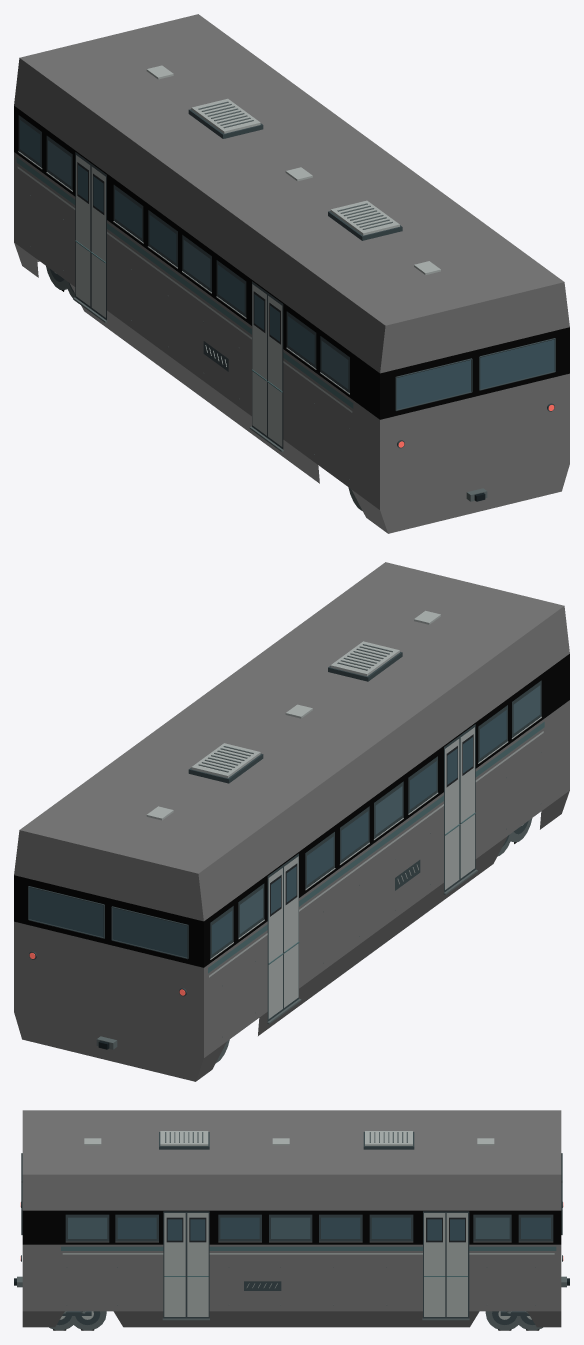
File: TRAIN2.glb
3 views of the same model, one above another, from view 1: azimuth 30°, elevation 25°; view 2: azimuth 150°, elevation 25°; view 3: azimuth 270°, elevation 25° (orthographic). The views are drawn at different scales.
Parts seen in each view (by area): view 1: TRAIN2 | archived geometry, TRAIN2 | glazing, sliding doors and body mouldings, TRAIN2 | ventilators and roof access, TRAIN2 | bogie castings, wheel centres and couplers; view 2: TRAIN2 | archived geometry, TRAIN2 | glazing, sliding doors and body mouldings, TRAIN2 | ventilators and roof access, TRAIN2 | bogie castings, wheel centres and couplers; view 3: TRAIN2 | archived geometry, TRAIN2 | glazing, sliding doors and body mouldings, TRAIN2 | ventilators and roof access, TRAIN2 | bogie castings, wheel centres and couplers.
Boxes of the visible parts, x1,y1,x2,y2 form: TRAIN2 | archived geometry: (14, 14, 569, 533); TRAIN2 | glazing, sliding doors and body mouldings: (16, 115, 555, 479); TRAIN2 | ventilators and roof access: (146, 65, 440, 274); TRAIN2 | bogie castings, wheel centres and couplers: (46, 266, 487, 510); TRAIN2 | archived geometry: (14, 562, 569, 1081); TRAIN2 | glazing, sliding doors and body mouldings: (28, 680, 544, 1037); TRAIN2 | ventilators and roof access: (146, 610, 440, 820); TRAIN2 | bogie castings, wheel centres and couplers: (96, 818, 532, 1063); TRAIN2 | archived geometry: (22, 1110, 561, 1330); TRAIN2 | glazing, sliding doors and body mouldings: (20, 1153, 563, 1320); TRAIN2 | ventilators and roof access: (84, 1131, 494, 1149); TRAIN2 | bogie castings, wheel centres and couplers: (14, 1276, 569, 1330).
Size of the model in its own units: 4.29 by 4.79 by 14.31.
